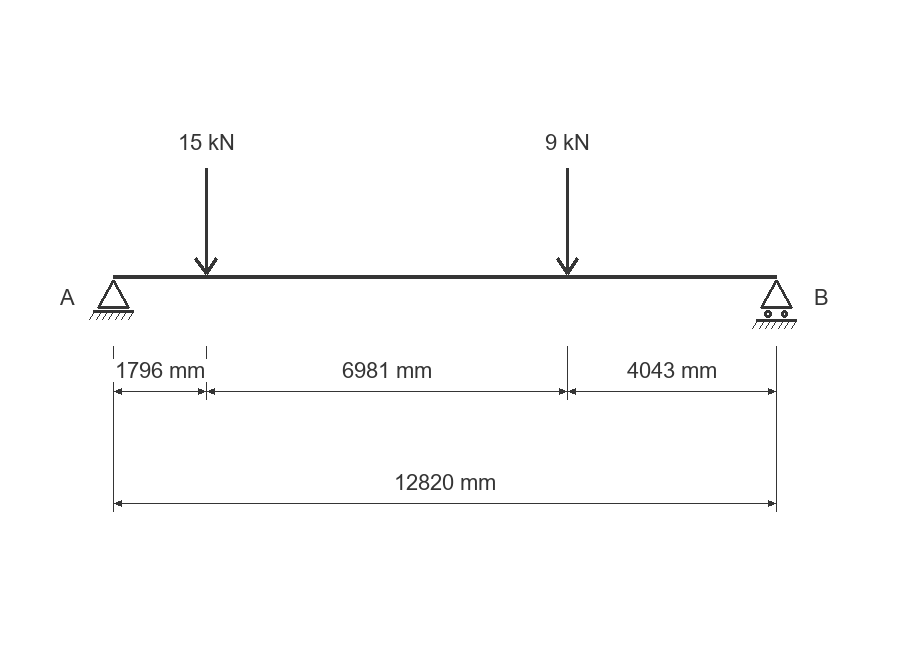pin_support: (89, 280, 134, 320)
point_load: (194, 168, 218, 275), (556, 168, 579, 275)
roller_support: (752, 280, 797, 329)
